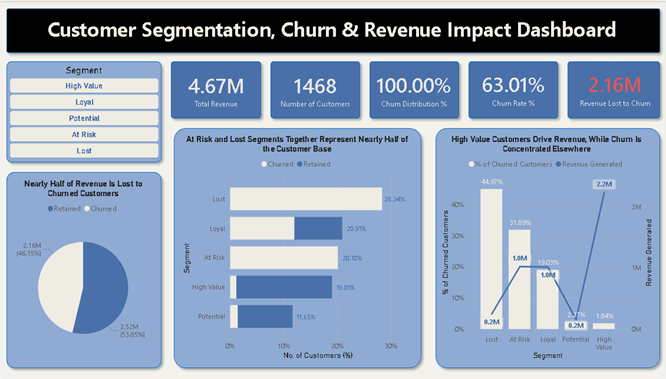

The page's visual inventory and layout, read from the dashboard file:
{"tool":"powerbi","page":{"name":"Page 1","canvas":[1250,700],"ordinal":0},"visuals":[{"type":"shape","box":[1057.8,103.3,192.2,123.3],"z":0},{"type":"shape","box":[871.1,103.3,186.7,123.3],"z":1000},{"type":"shape","box":[684.4,103.3,186.7,123.3],"z":2000},{"type":"shape","box":[497.8,103.3,186.7,123.3],"z":3000},{"type":"shape","box":[0,5.6,1250,100],"z":4000},{"type":"shape","box":[0,103.3,310,204.4],"z":5000},{"type":"shape","box":[0,307.8,310,380],"z":6000},{"type":"shape","box":[808.9,226.7,441.1,461.1],"z":7000},{"type":"shape","box":[310,103.3,187.8,123.3],"z":8000},{"type":"shape","box":[315.6,226.7,484.4,461.1],"z":9000},{"type":"lineClusteredColumnComboChart","title":"High Value Customers Drive Revenue, While Churn Is Concentrated Elsewhere","fields":{"Category":["retailplus rfm_analysis.Segment"],"Y":["Sum(retailplus rfm_analysis.Churned)"],"Y2":["Sum(retailplus rfm_analysis.Monetary)"]},"box":[823.3,245.6,407.8,423.3],"z":10000},{"type":"pieChart","title":"Nearly Half of Revenue Is Lost to Churned Customers","fields":{"Y":["Sum(retailplus rfm_analysis.Monetary)"],"Category":["retailplus rfm_analysis.Churn_Flag"]},"box":[15.6,327.8,275.6,341.1],"z":11000},{"type":"barChart","title":"At Risk and Lost Segments Together Represent Nearly Half of the Customer Base","fields":{"Category":["retailplus rfm_analysis.Segment"],"Y":["Divide(Count(retailplus rfm_analysis.CustomerID), ScopedEval(Count(retailplus rfm_analysis.CustomerID), []))"],"Series":["retailplus rfm_analysis.Churn_Flag"]},"box":[335.6,245.6,442.2,423.3],"z":12000},{"type":"advancedSlicerVisual","fields":{"Values":["Segment_Dim.Segment"]},"box":[10,118.9,291.1,178.9],"z":13000},{"type":"card","fields":{"Values":["Count(retailplus rfm_analysis.CustomerID)"]},"box":[514.4,120,153.3,88.9],"z":14000},{"type":"card","fields":{"Values":["Sum(retailplus rfm_analysis.Monetary)"]},"box":[327.8,120,152.2,88.9],"z":15000},{"type":"card","fields":{"Values":["retailplus rfm_analysis.Churn Share %"]},"box":[694.4,120,165.6,87.8],"z":16000},{"type":"card","fields":{"Values":["retailplus rfm_analysis.Churn Rate % by segment"]},"box":[882.2,120,163.3,85.6],"z":17000},{"type":"card","fields":{"Values":["retailplus rfm_analysis.Revenue Lost to Churn"]},"box":[1081.1,120,150,85.6],"z":18000},{"type":"textbox","box":[81.1,21.1,1087.8,68.9],"z":18001}]}

Visuals, with their boxes in screenshot pixels (x1, y1, x2, y2), scaled from the page's 1250x700 canvas onto the 666x379 screenshot:
shape: 564:56:665:123
shape: 464:56:564:123
shape: 365:56:464:123
shape: 265:56:365:123
shape: 0:3:665:57
shape: 0:56:165:167
shape: 0:167:165:372
shape: 431:123:665:372
shape: 165:56:265:123
shape: 168:123:426:372
"High Value Customers Drive Revenue, While Churn Is Concentrated Elsewhere" lineClusteredColumnComboChart: 439:133:656:362
"Nearly Half of Revenue Is Lost to Churned Customers" pieChart: 8:177:155:362
"At Risk and Lost Segments Together Represent Nearly Half of the Customer Base" barChart: 179:133:414:362
advancedSlicerVisual - Segment_Dim.Segment: 5:64:160:161
card - Count(retailplus rfm_analysis.CustomerID): 274:65:356:113
card - Sum(retailplus rfm_analysis.Monetary): 175:65:256:113
card - retailplus rfm_analysis.Churn Share %: 370:65:458:113
card - retailplus rfm_analysis.Churn Rate % by segment: 470:65:557:111
card - retailplus rfm_analysis.Revenue Lost to Churn: 576:65:656:111
textbox: 43:11:623:49
